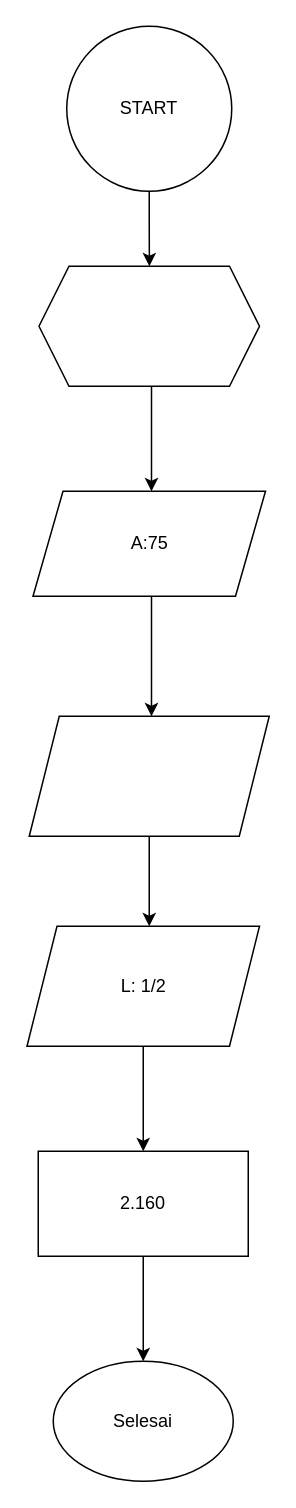
This 296x1508 diagram has some shape labels left out. The centre of each missing label's shape, as x and y in pixels:
NIM:24241175 A:75 T:24 L:1/2: the point at 149,325
T: 24: the point at 148,775
